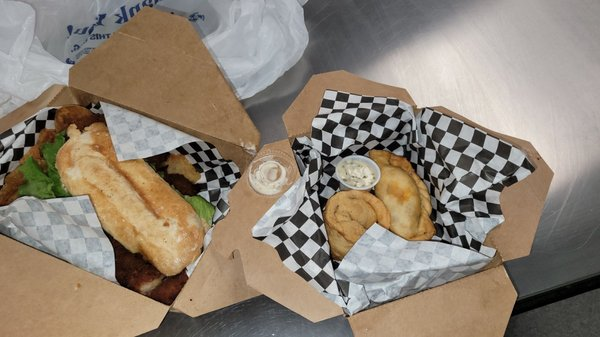soup: (0, 105, 214, 299), (0, 106, 114, 207)
